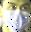with_mask: (1, 1, 31, 32)
